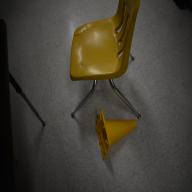cone: (95, 108, 137, 162)
